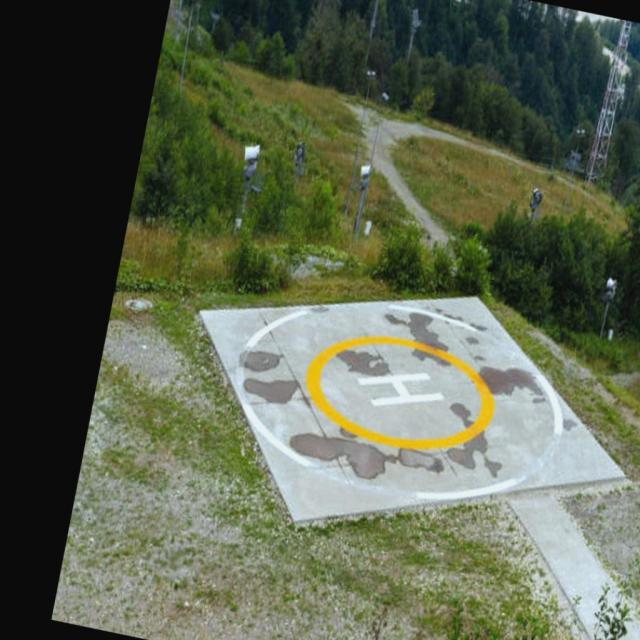helipad: (302, 331, 498, 451)
